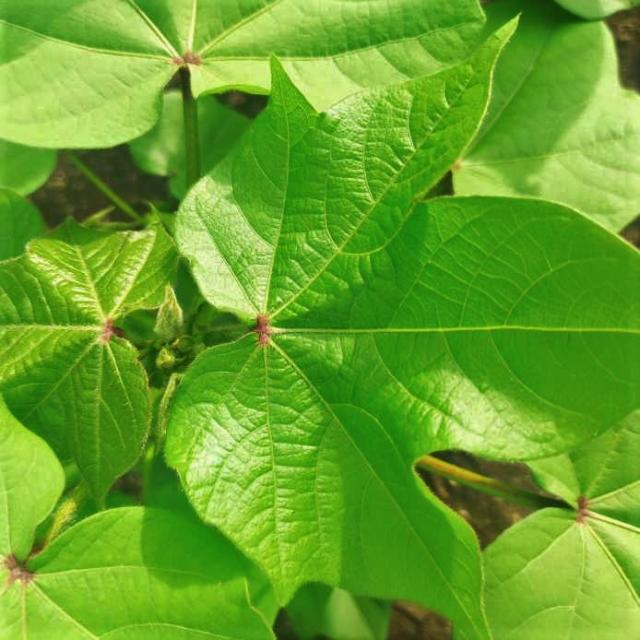Healthy Leaf: (15, 23, 638, 629)
